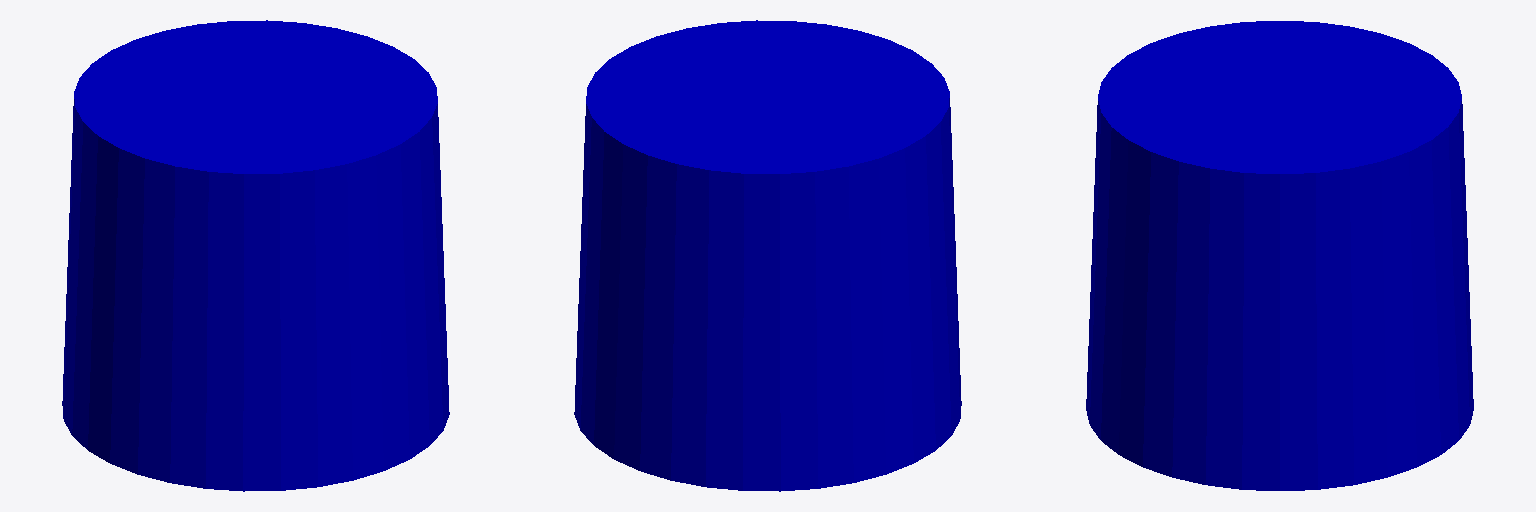
robot.urdf — blue_cup:
<?xml version="1.0"?>
<robot name="blue_cup">
<link name="blue_cup">
    <visual>
      <geometry>
        <mesh filename="package://laas_objects/res/obj/blue_cup.obj"/>
      </geometry>
      <origin rpy="1.57075 0 0" xyz="0 0 0"/>
      <material name="blue">
        <color rgba="0 0 .8 1"/>
      </material>
    </visual>
    <collision>
      <geometry>
        <mesh filename="package://laas_objects/res/obj/blue_cup.obj"/>
      </geometry>
      <origin rpy="1.57075 0 0" xyz="0 0 0"/>
      <contact_coefficients mu="1000.0" kp="0.00" kd="0.0"/>
    </collision>
    <inertial>
      <mass value="0.15"/>
      <inertia ixx="0.000378125" ixy="0.0" ixz="0.0" iyy="0.000378125" iyz="0.0" izz="0.000378125"/>
    </inertial>
</link>
</robot>

--- Facts derived from the render (not from the file) ---
Views: 3 orthographic renders of the robot side by side, from view 1: azimuth 30°, elevation 25°; view 2: azimuth 150°, elevation 25°; view 3: azimuth 270°, elevation 25°.
Robot: blue_cup — 1 links, 0 joints (none); root link blue_cup; default pose: all joints at 0.
Links seen in each view (by area): view 1: blue_cup; view 2: blue_cup; view 3: blue_cup.
Link boxes in pixels (bbox=[...]): blue_cup: bbox=[62, 20, 449, 491]; blue_cup: bbox=[574, 20, 961, 491]; blue_cup: bbox=[1086, 21, 1473, 490].
Bounding box of the posed robot: 0.0602 × 0.0602 × 0.0535 m (x, y, z).
1 mesh visuals loaded from 1 distinct referenced files (1 OBJ).